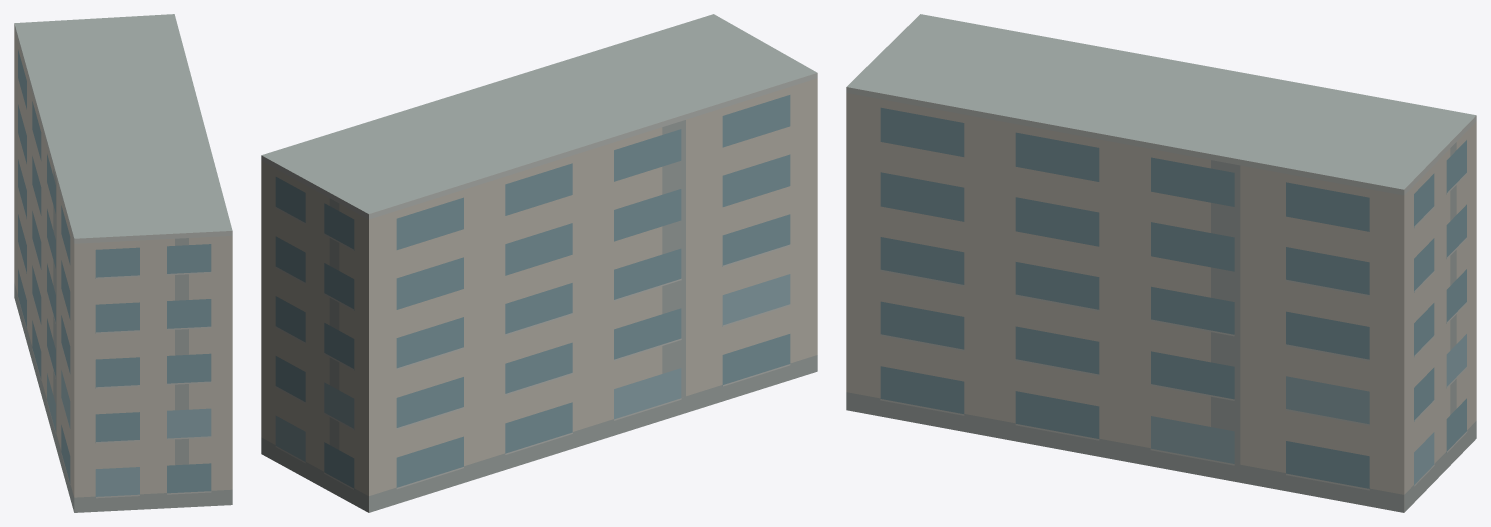
The model's file is survey-upis-32958869.glb.
3 renders of one model, left to right at view 1: azimuth 30°, elevation 25°; view 2: azimuth 150°, elevation 25°; view 3: azimuth 270°, elevation 25°, orthographic. The views are drawn at different scales.
Visible parts, largest first — view 1: survey-upis-32958869.tmp; view 2: survey-upis-32958869.tmp; view 3: survey-upis-32958869.tmp.
Boxes of the visible parts, left/top/right/bottom form: survey-upis-32958869.tmp: left=14, top=14, right=232, bottom=512; survey-upis-32958869.tmp: left=261, top=14, right=817, bottom=512; survey-upis-32958869.tmp: left=846, top=14, right=1476, bottom=512.
Size of the model in its own units: 15.52 by 13.3 by 23.52.
